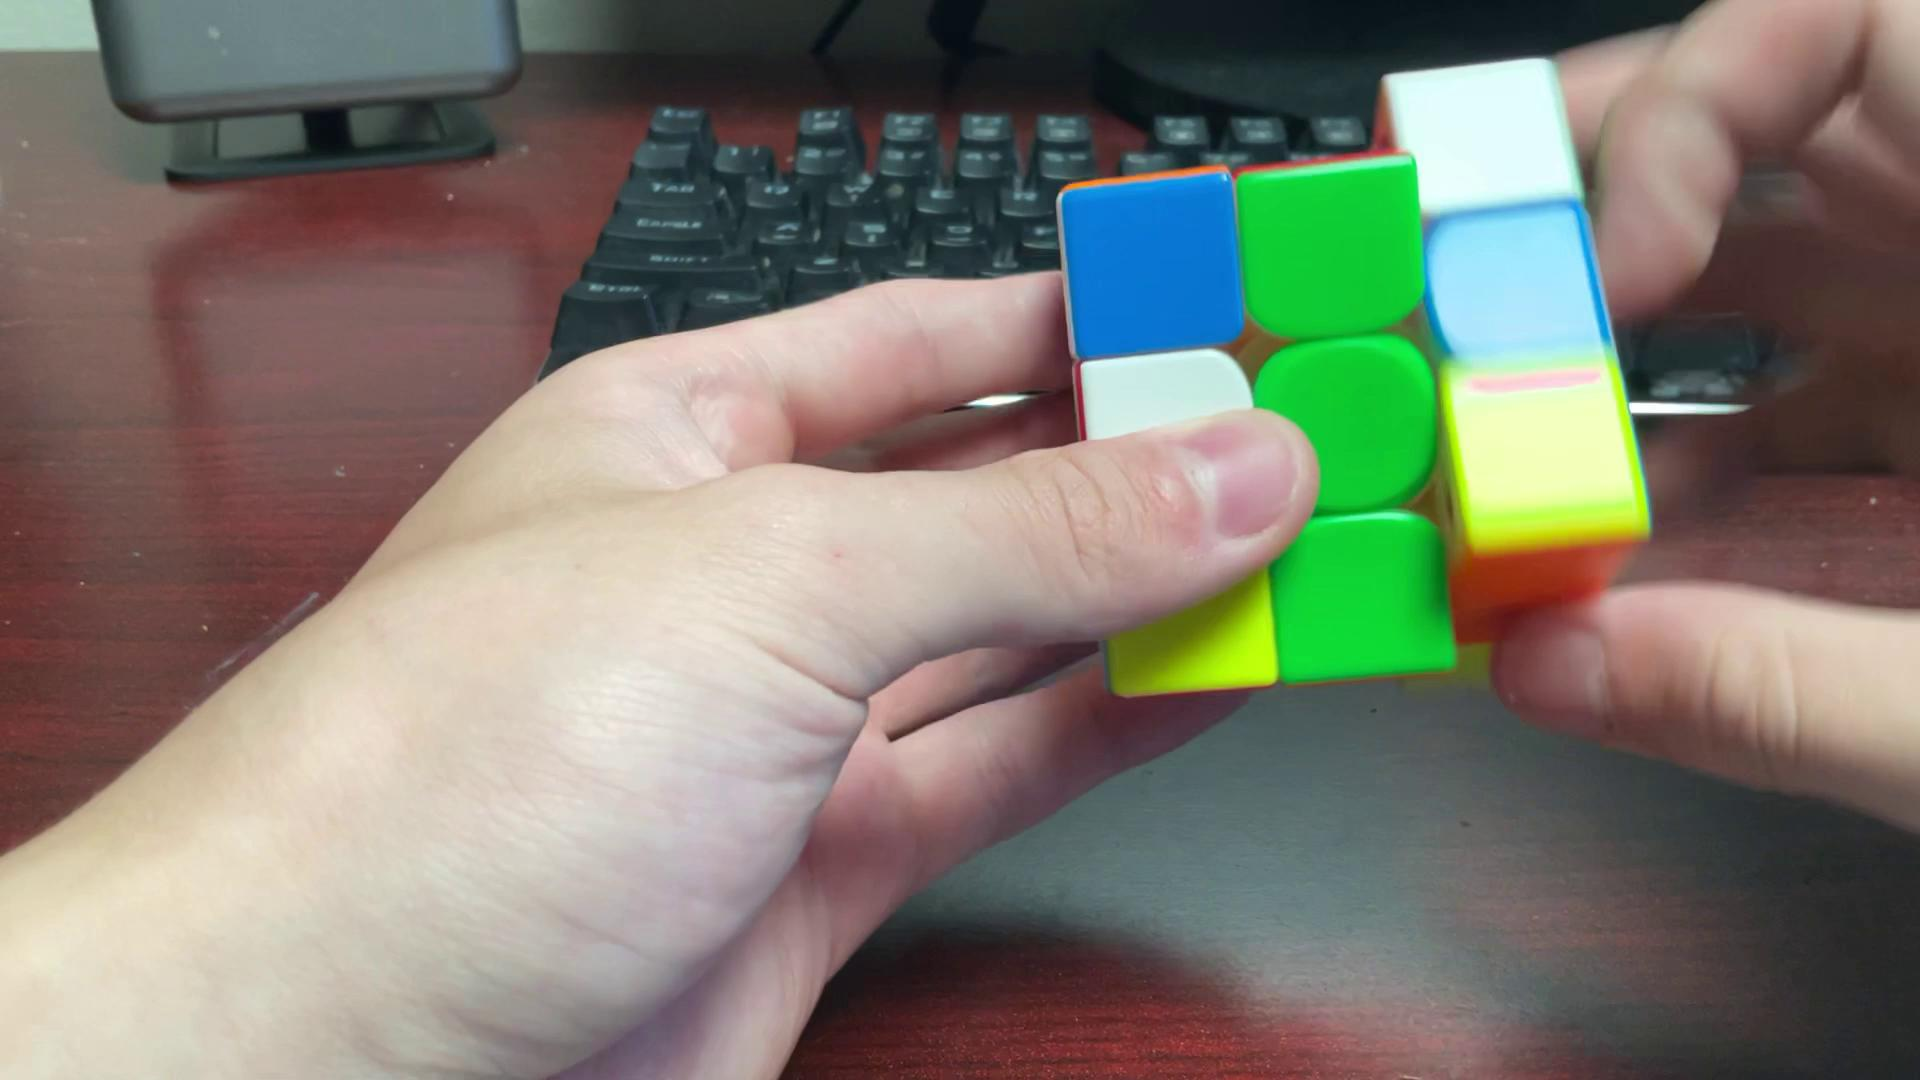Rubiks-Cube: (1048, 49, 1680, 724)
